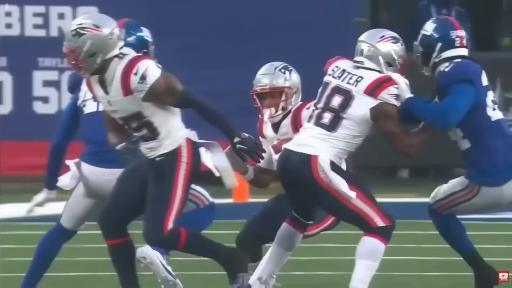Helmet: (63, 14, 123, 76), (414, 16, 468, 74), (251, 62, 301, 122), (354, 29, 407, 74), (118, 19, 154, 58)
Jersey: (284, 58, 399, 166), (87, 49, 189, 158), (436, 59, 511, 185), (45, 73, 123, 190), (76, 82, 124, 168), (258, 102, 312, 170)
Player: (64, 14, 264, 287), (250, 29, 426, 287), (400, 16, 511, 287), (21, 73, 139, 287), (226, 62, 312, 188)
